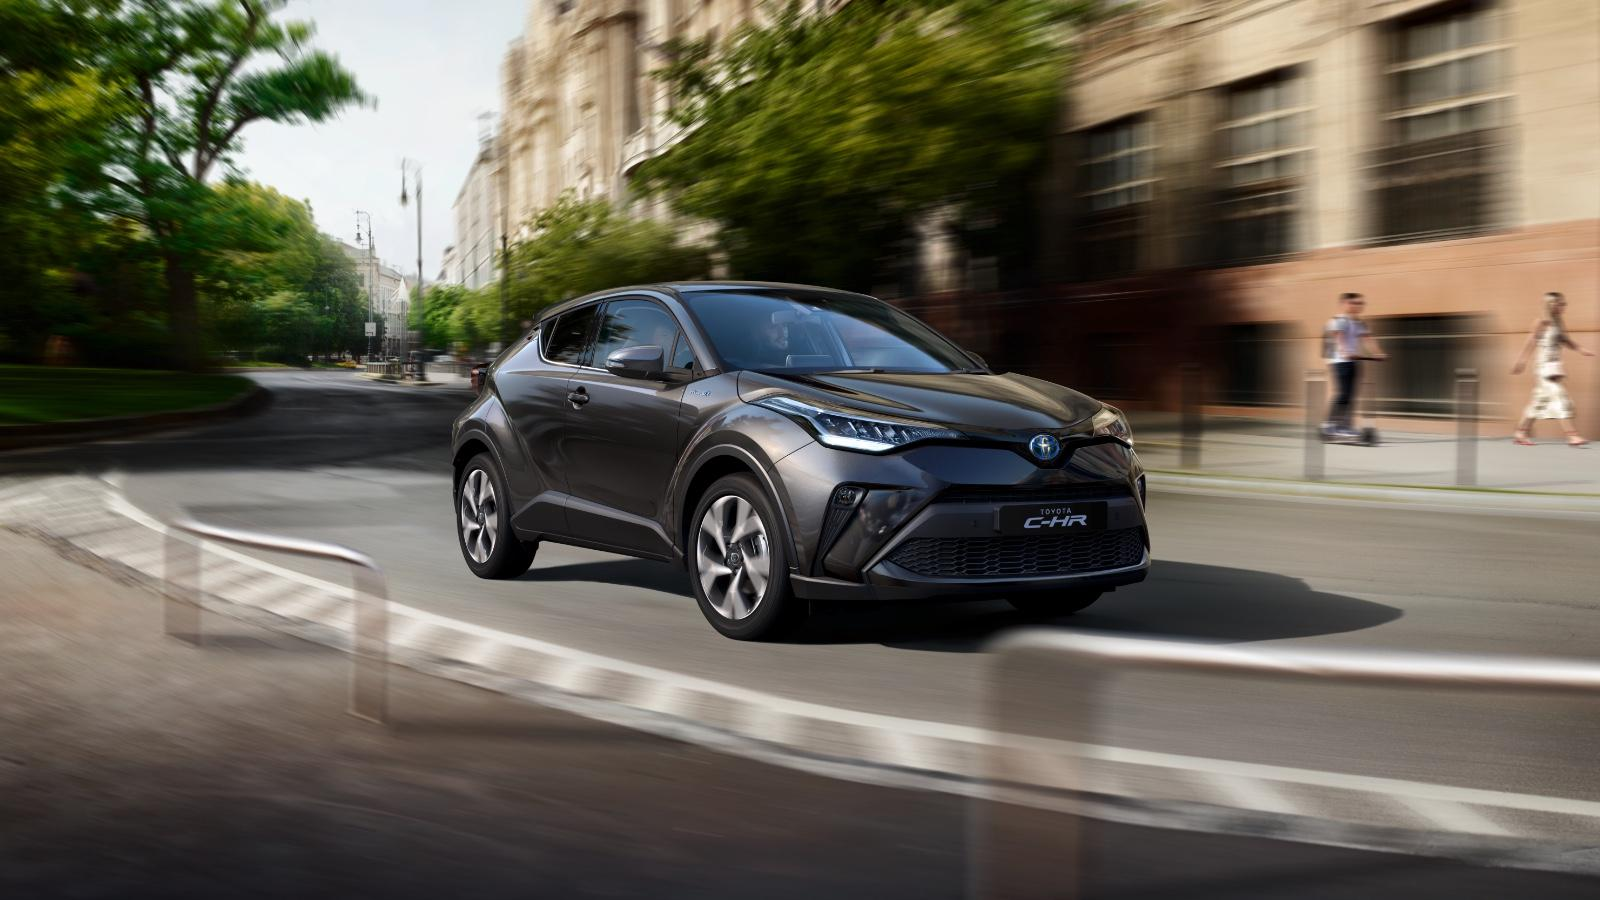car: (452, 277, 1177, 631)
